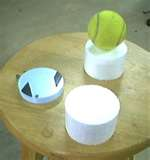tennis ball: (86, 8, 128, 51)
